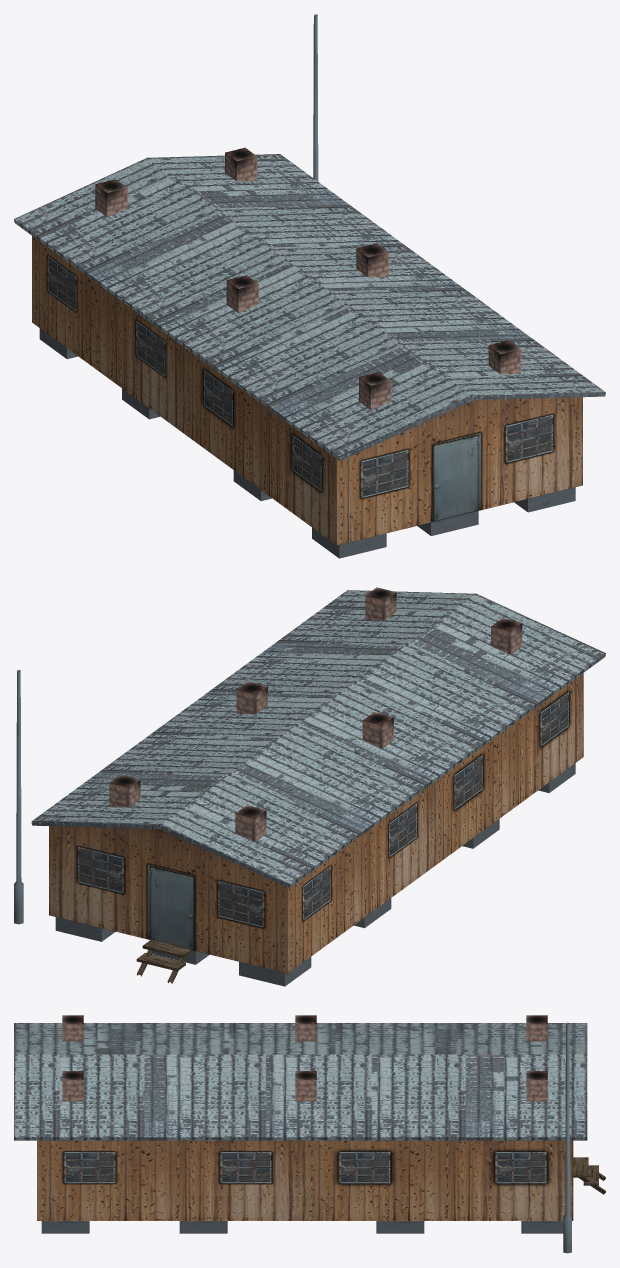
File: GermanBarracks.fbx
3 views of the same model, one above another, from view 1: azimuth 30°, elevation 25°; view 2: azimuth 150°, elevation 25°; view 3: azimuth 270°, elevation 25° (orthographic). The views are drawn at different scales.
Visible parts, largest first — view 1: GeryBarracks, FlagPole; view 2: GeryBarracks, FlagPole; view 3: GeryBarracks, FlagPole.
Boxes of the visible parts, left/top/right/bottom form: GeryBarracks: left=14, top=147, right=605, bottom=558; FlagPole: left=313, top=14, right=318, bottom=181; GeryBarracks: left=31, top=587, right=605, bottom=986; FlagPole: left=14, top=670, right=23, bottom=924; GeryBarracks: left=14, top=1015, right=605, bottom=1233; FlagPole: left=563, top=1022, right=571, bottom=1253.
Size of the model in its own units: 18.8 by 16.07 by 37.04.
